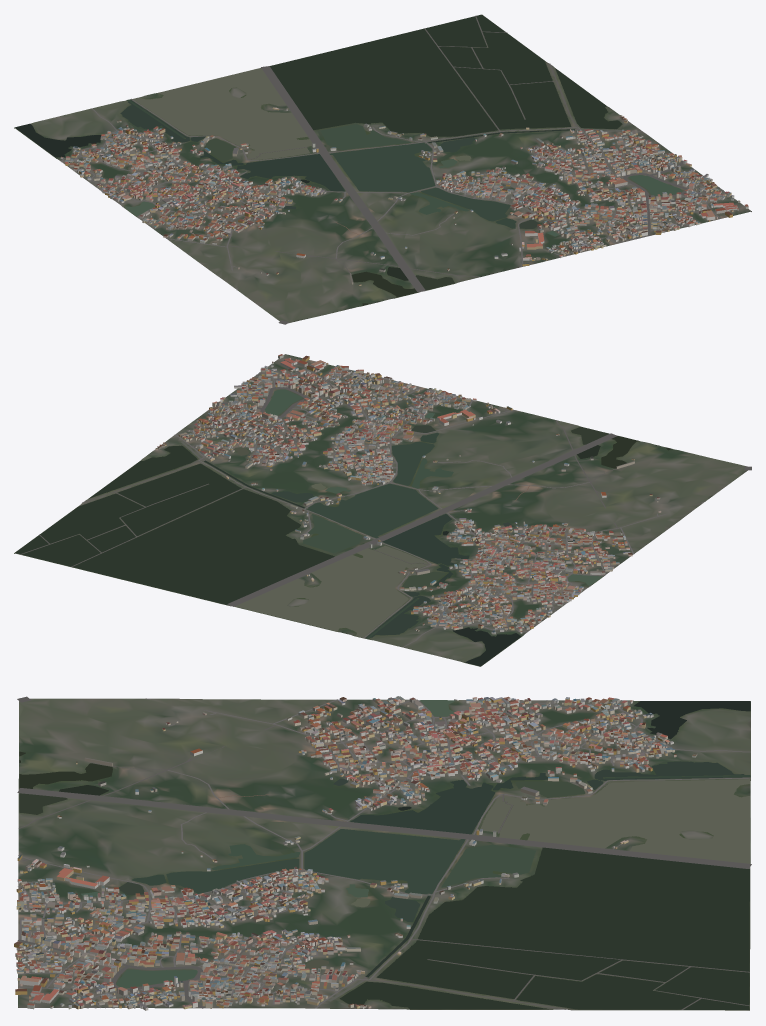
The picture shows the model from 3 angles, top to bottom: view 1: azimuth 30°, elevation 25°; view 2: azimuth 150°, elevation 25°; view 3: azimuth 270°, elevation 25°; orthographic projection. The views are drawn at different scales.
Visible parts, largest first — view 1: ground, water, buildings, roads; view 2: ground, water, buildings, roads; view 3: ground, water, buildings, roads.
Part boxes in pixels (x1=…): ground: x1=14, y1=15, x2=751, y2=323; water: x1=15, y1=14, x2=681, y2=305; buildings: x1=60, y1=107, x2=748, y2=285; roads: x1=61, y1=15, x2=724, y2=324; ground: x1=14, y1=354, x2=747, y2=666; water: x1=15, y1=389, x2=671, y2=666; buildings: x1=155, y1=354, x2=661, y2=634; roads: x1=20, y1=361, x2=751, y2=647; ground: x1=18, y1=698, x2=750, y2=1010; water: x1=19, y1=700, x2=750, y2=1009; buildings: x1=14, y1=696, x2=697, y2=1010; roads: x1=17, y1=696, x2=751, y2=1010.
Bounding box in the file's own units: 1418 × 23.9 × 1413.
